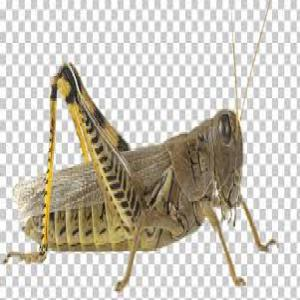locust: (64, 78, 279, 256)
